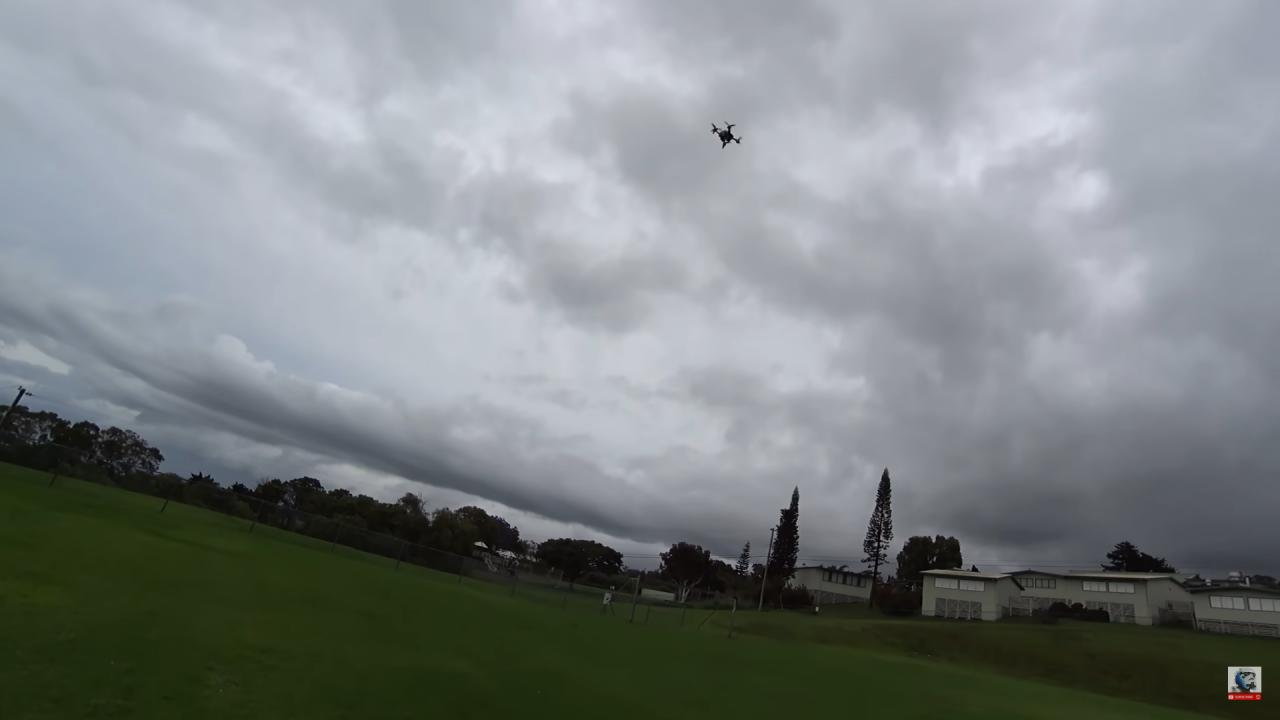Drone: (704, 116, 747, 156)
